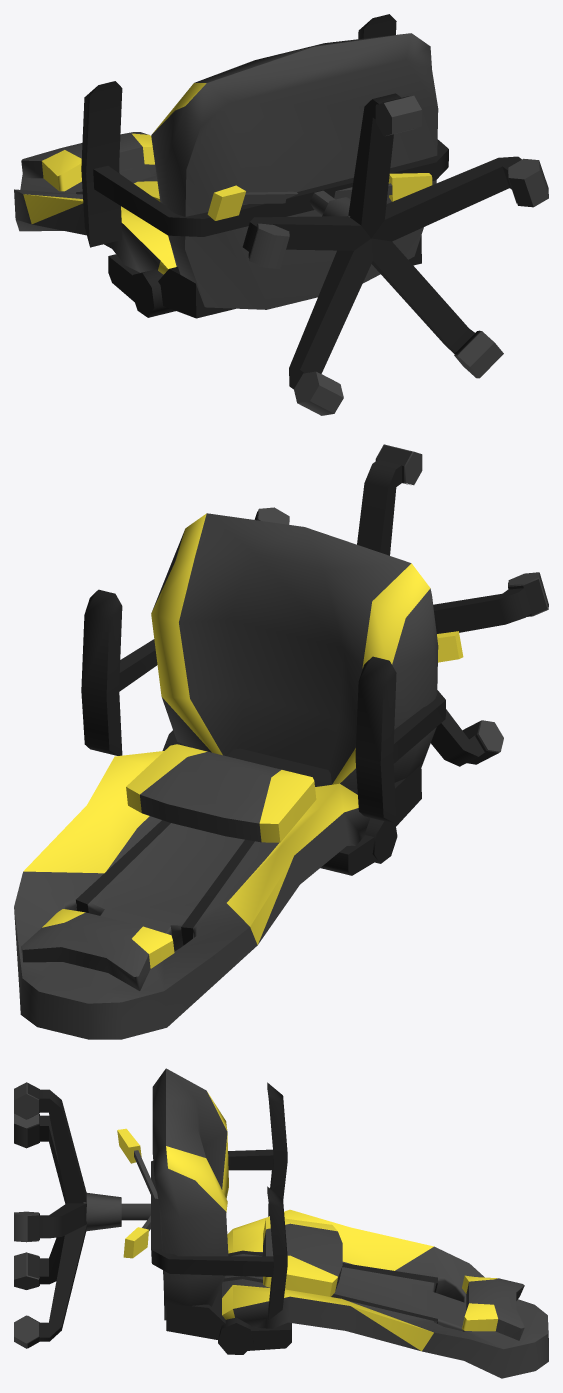
The model's file is chair.glb.
The picture shows the model from 3 angles, top to bottom: view 1: azimuth 30°, elevation 25°; view 2: azimuth 150°, elevation 25°; view 3: azimuth 270°, elevation 25°; orthographic projection. The views are drawn at different scales.
Visible parts, largest first — view 1: office_chair_016; view 2: office_chair_016; view 3: office_chair_016.
Part boxes in pixels (left/top/right/bottom): office_chair_016: left=14, top=14, right=548, bottom=415; office_chair_016: left=14, top=444, right=548, bottom=1039; office_chair_016: left=14, top=1068, right=548, bottom=1378.
Bounding box in the file's own units: 0.6267 × 0.6615 × 1.22.
Materials: 1 (1 with a texture image).
